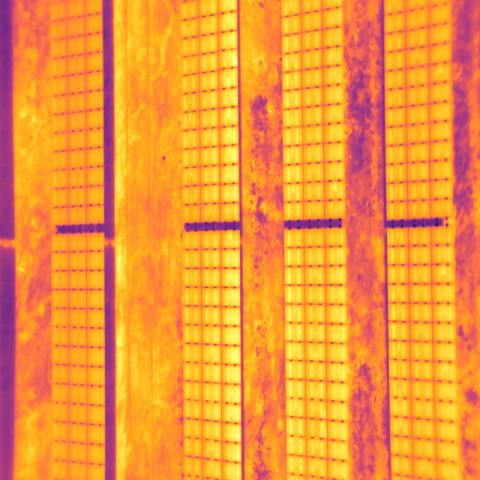fault: (218, 50, 238, 72)
